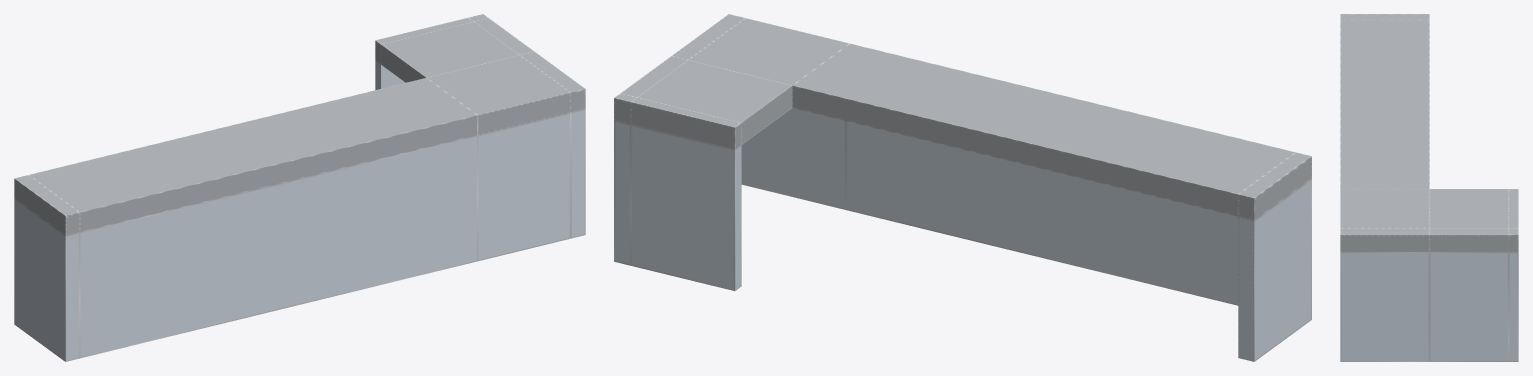
File: sm_recepdesk.fbx
3 renders of one model, left to right at view 1: azimuth 30°, elevation 25°; view 2: azimuth 150°, elevation 25°; view 3: azimuth 270°, elevation 25°, orthographic. The views are drawn at different scales.
Parts seen in each view (by area): view 1: Recepdesk; view 2: Recepdesk; view 3: Recepdesk.
Boxes of the visible parts, x1,y1,x2,y2 form: Recepdesk: [14, 14, 585, 361]; Recepdesk: [614, 14, 1311, 361]; Recepdesk: [1340, 14, 1518, 361].
Bounding box in the file's own units: 410 × 110 × 140.
